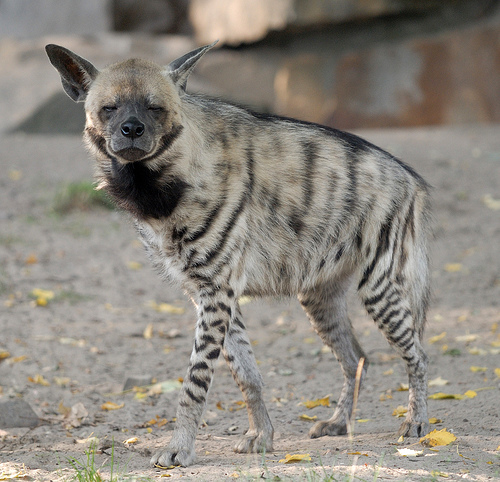hyena: (50, 41, 445, 449)
